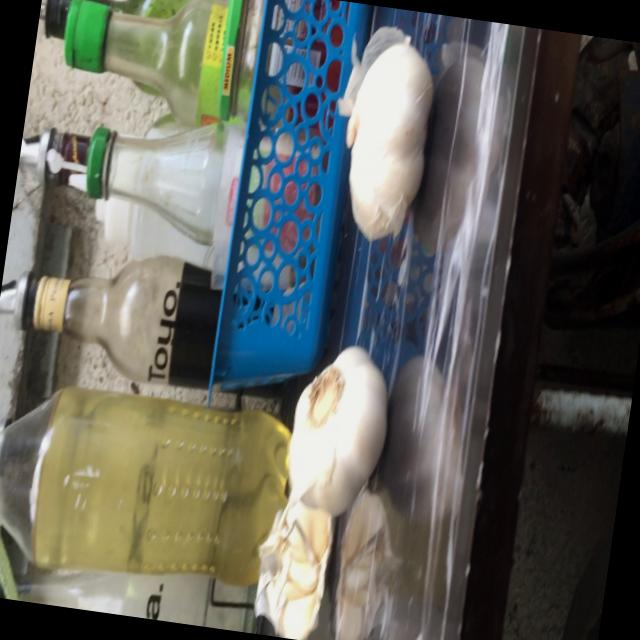garlic: (328, 30, 443, 252), (276, 334, 401, 522), (249, 491, 339, 640)
